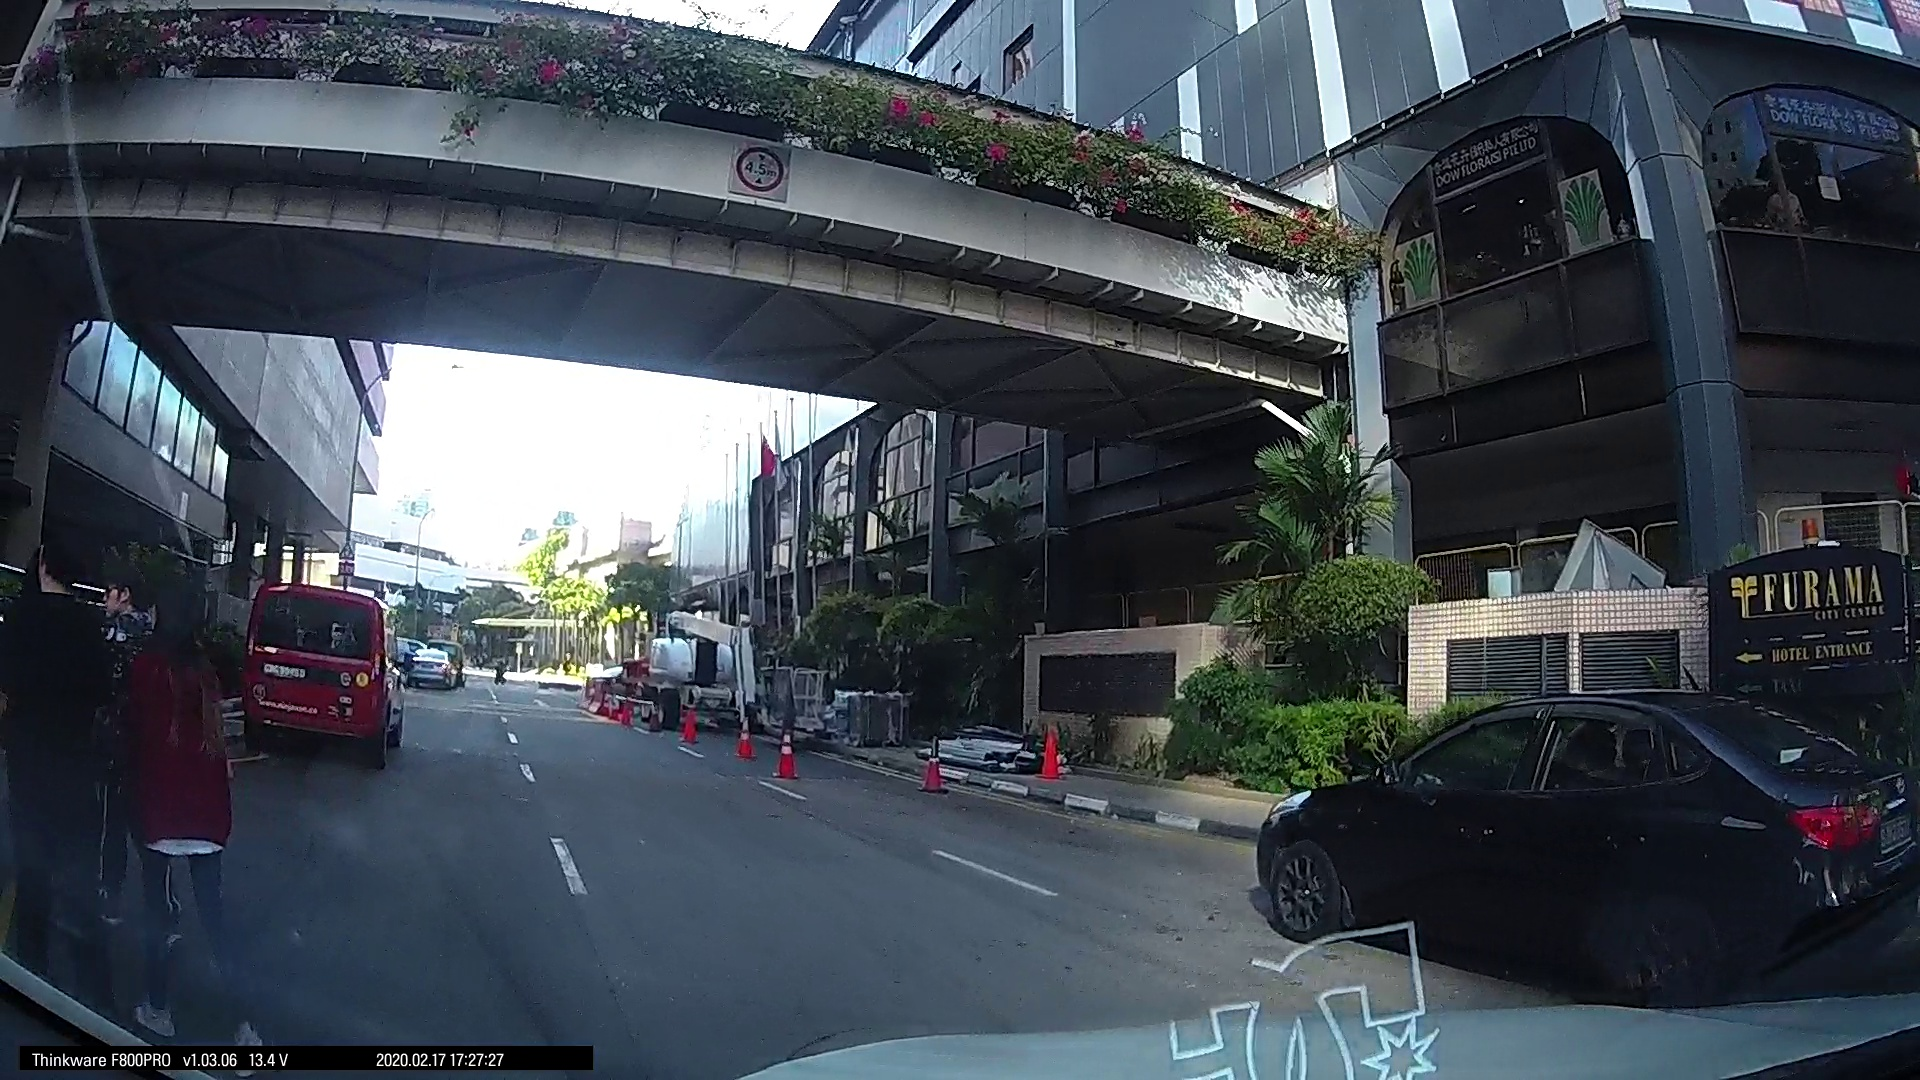Heavy Vehicle: (4, 357, 330, 1023), (820, 622, 902, 704)
Light Vehicle: (280, 568, 749, 916), (1308, 667, 1448, 774), (711, 647, 796, 783), (750, 641, 823, 756), (1073, 651, 1131, 700), (964, 655, 1015, 699)
